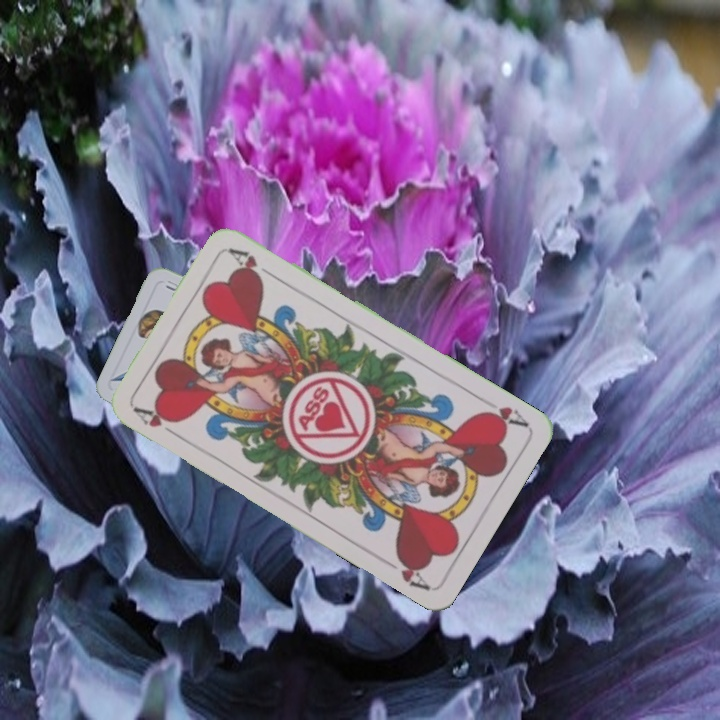HA: (130, 403, 184, 441), (476, 393, 530, 430)
